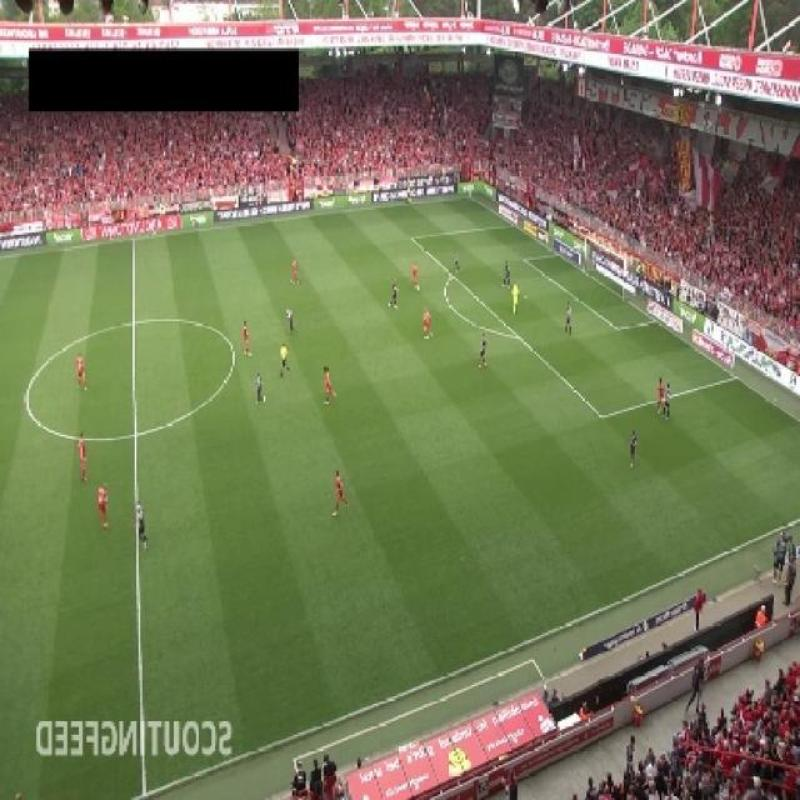1: (460, 188, 481, 206)
10: (444, 270, 461, 284)
11: (509, 324, 527, 344)
12: (591, 404, 612, 428)
13: (120, 227, 144, 252)
14: (119, 306, 146, 334)
15: (121, 413, 150, 452)
16: (128, 780, 162, 800)
2: (506, 213, 524, 233)
3: (550, 245, 566, 263)
4: (646, 310, 665, 329)
5: (725, 366, 746, 386)
7: (513, 248, 533, 267)
8: (610, 315, 629, 339)
9: (403, 228, 421, 247)
c: (215, 338, 251, 372), (11, 382, 44, 418)
